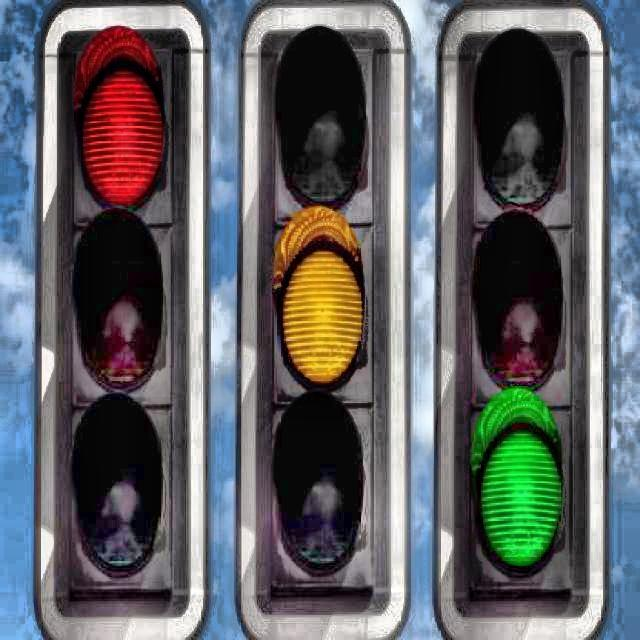green: (438, 0, 612, 637)
red: (32, 0, 210, 640)
yellow: (240, 0, 411, 639)
